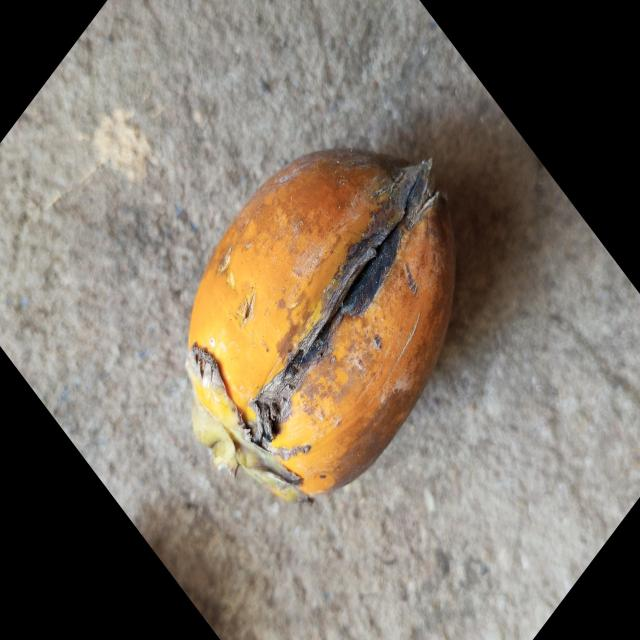damaged: (185, 151, 457, 504)
